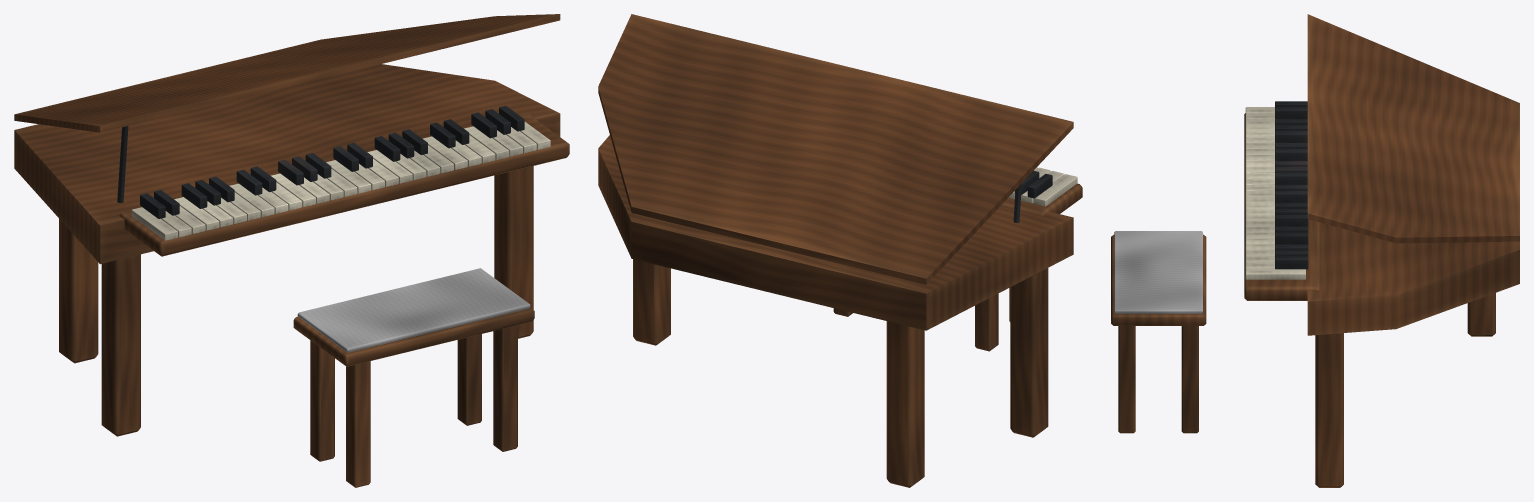
File: Furn_Music_Harpsichord.fbx
3 views of the same model, side by side, from view 1: azimuth 30°, elevation 25°; view 2: azimuth 150°, elevation 25°; view 3: azimuth 270°, elevation 25° (orthographic). The views are drawn at different scales.
Parts seen in each view (by area): view 1: Furn_Music_Harpsichord; view 2: Furn_Music_Harpsichord; view 3: Furn_Music_Harpsichord.
Boxes of the visible parts, x1,y1,x2,y2 form: Furn_Music_Harpsichord: [14, 14, 569, 487]; Furn_Music_Harpsichord: [598, 14, 1082, 487]; Furn_Music_Harpsichord: [1111, 14, 1519, 487].
Size of the model in its own units: 1.5 by 1 by 1.3.
Materials: 4 (4 with a texture image).
